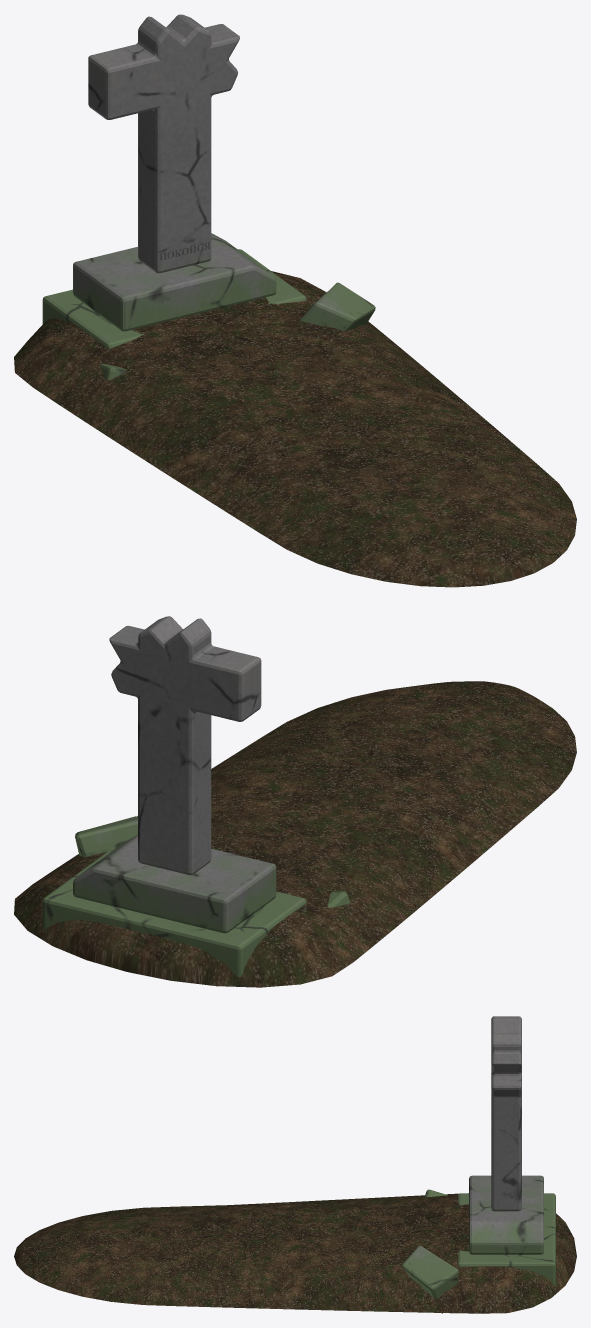
The model's file is gravestone_cross_broken_a.glb.
The picture shows the model from 3 angles, top to bottom: view 1: azimuth 30°, elevation 25°; view 2: azimuth 150°, elevation 25°; view 3: azimuth 270°, elevation 25°; orthographic projection. The views are drawn at different scales.
Parts seen in each view (by area): view 1: gravestone_cross_broken_a; view 2: gravestone_cross_broken_a; view 3: gravestone_cross_broken_a.
Part boxes in pixels (x1=…): gravestone_cross_broken_a: x1=14, y1=14, x2=576, y2=587; gravestone_cross_broken_a: x1=14, y1=616, x2=576, y2=987; gravestone_cross_broken_a: x1=14, y1=1016, x2=576, y2=1313.
Bounding box in the file's own units: 1.16 × 1.14 × 2.4.
Materials: 2 (2 with a texture image).
